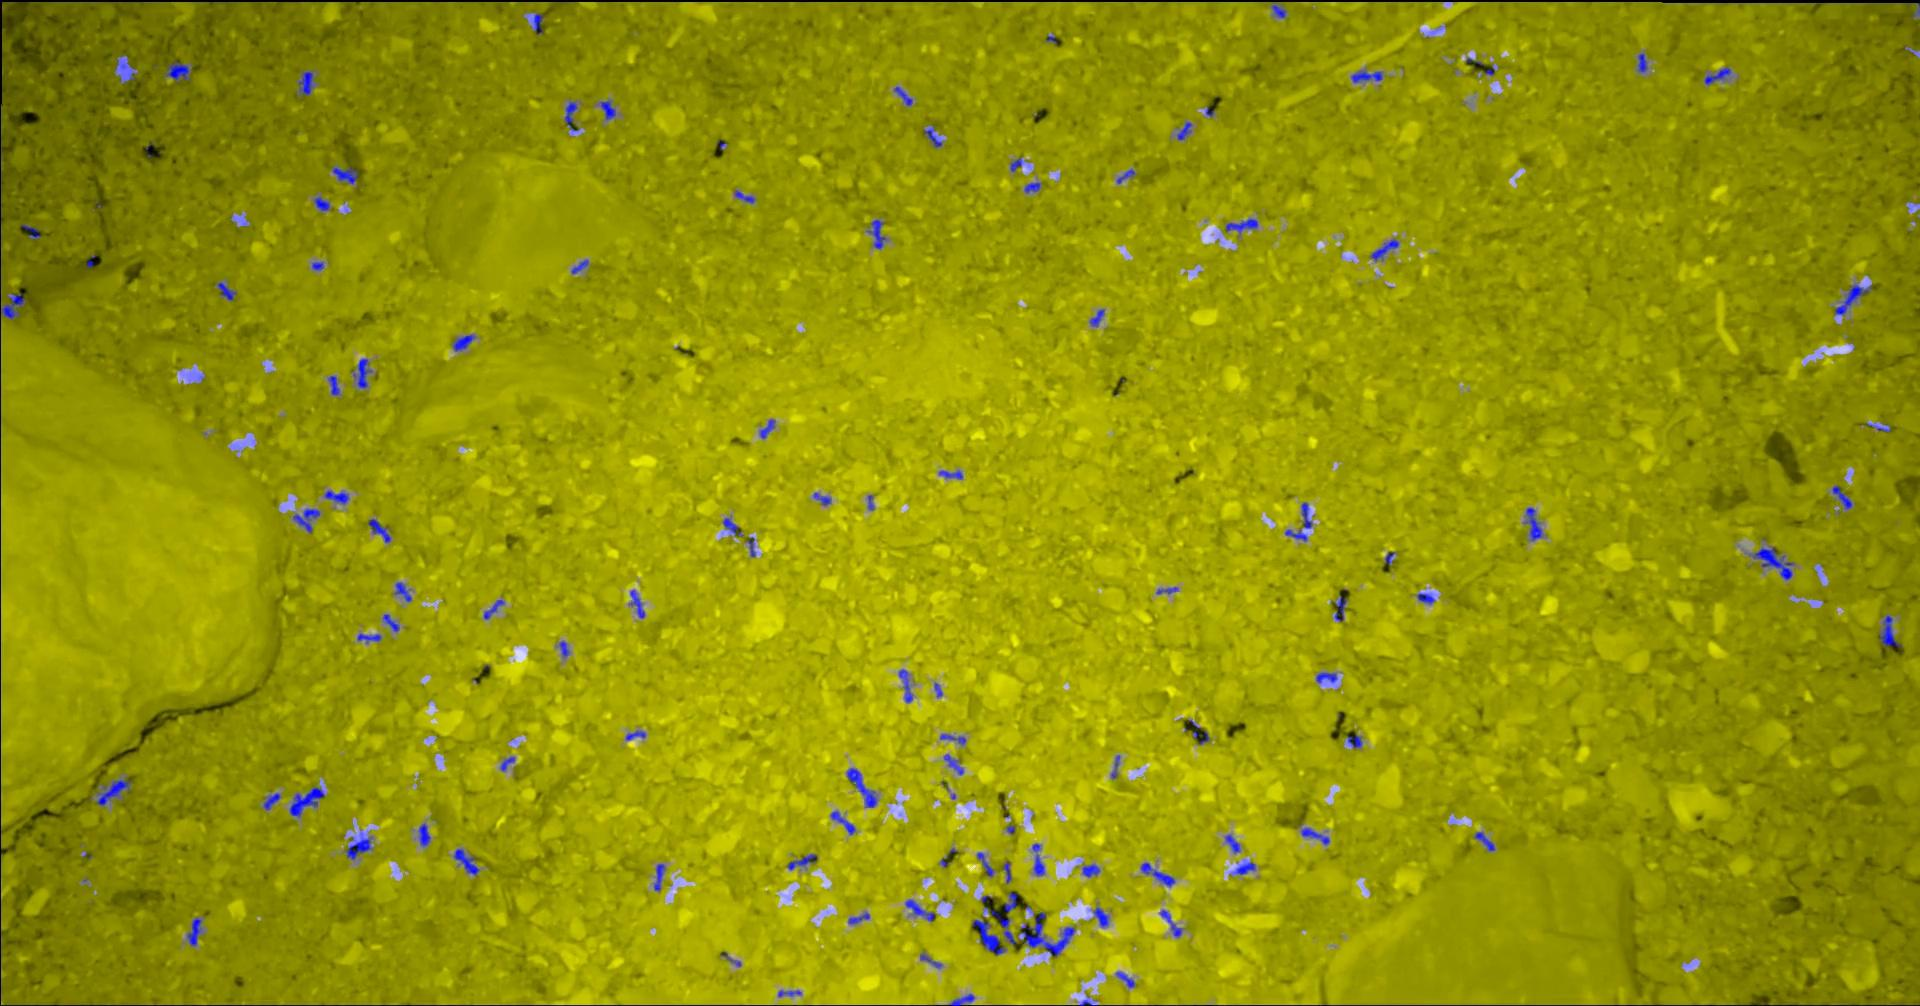ant: (1022, 911, 1076, 956), (1754, 547, 1796, 579), (973, 916, 1007, 954), (848, 767, 877, 807), (291, 786, 326, 817), (1836, 285, 1873, 314), (98, 779, 132, 805), (992, 909, 1017, 945), (1142, 862, 1176, 887), (1881, 615, 1903, 647), (455, 848, 481, 875), (347, 833, 375, 859), (1, 292, 27, 319), (295, 508, 321, 532), (1371, 238, 1399, 260), (1161, 909, 1183, 937), (907, 899, 936, 921), (832, 810, 857, 835), (1189, 719, 1211, 744), (869, 218, 888, 248), (370, 518, 392, 542), (116, 55, 137, 80), (168, 60, 193, 81), (1526, 507, 1543, 540), (356, 358, 373, 387), (1705, 66, 1733, 84), (1302, 827, 1331, 843), (789, 854, 819, 869), (1225, 218, 1258, 232), (900, 669, 914, 702), (334, 166, 361, 183), (924, 124, 943, 147), (1834, 485, 1853, 508), (978, 852, 996, 876), (631, 589, 646, 617), (1476, 831, 1496, 851), (566, 102, 580, 131), (1352, 70, 1384, 83), (1034, 843, 1046, 875), (189, 917, 203, 945), (300, 71, 315, 97), (485, 600, 505, 619), (945, 754, 965, 774), (895, 86, 914, 105), (724, 517, 744, 535), (455, 334, 476, 351), (325, 490, 350, 504), (218, 282, 237, 300), (1336, 594, 1349, 621), (383, 614, 401, 631), (601, 100, 617, 119), (761, 419, 777, 438), (396, 582, 413, 601), (1117, 970, 1137, 987), (941, 733, 968, 744), (1091, 307, 1106, 326), (1286, 528, 1309, 541), (1225, 835, 1241, 854), (1095, 907, 1110, 926), (951, 993, 977, 1005), (22, 224, 42, 238), (655, 862, 665, 890), (1004, 892, 1018, 912), (265, 793, 282, 809), (1303, 502, 1313, 528), (1178, 121, 1192, 140), (1117, 169, 1137, 183), (571, 259, 590, 273), (329, 375, 342, 395), (814, 492, 832, 506), (420, 823, 432, 845), (1236, 862, 1257, 874), (850, 912, 871, 923), (737, 191, 756, 203), (315, 196, 331, 210), (1317, 672, 1338, 682), (940, 470, 964, 479), (359, 633, 383, 641), (1084, 864, 1101, 876), (535, 13, 545, 33), (1639, 52, 1650, 72), (627, 730, 648, 741), (1272, 4, 1288, 17), (1004, 861, 1013, 883), (1025, 182, 1043, 192), (1418, 593, 1436, 603), (1349, 734, 1363, 747), (560, 640, 570, 657), (52, 0, 102, 3), (1, 128, 3, 225)
